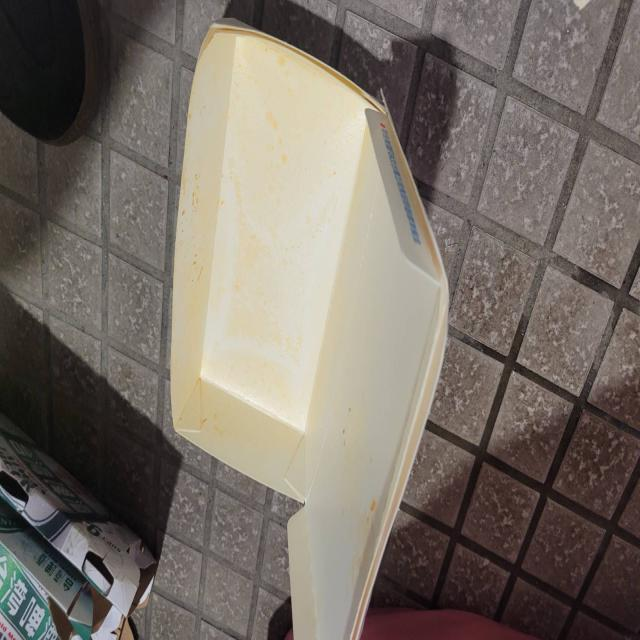Paper bowl: (166, 16, 459, 640)
